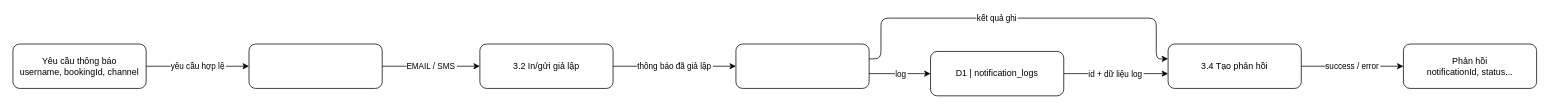
The diagram is 1550 pixels wide and 109 high, and some of its shapes have lost their labels. The box of each missing label's shape, as (x1, y1, x2, y2) in pixels:
3.1 Chọn kênh gửi: (248, 43, 382, 88)
3.3 Ghi log: (735, 43, 869, 88)
